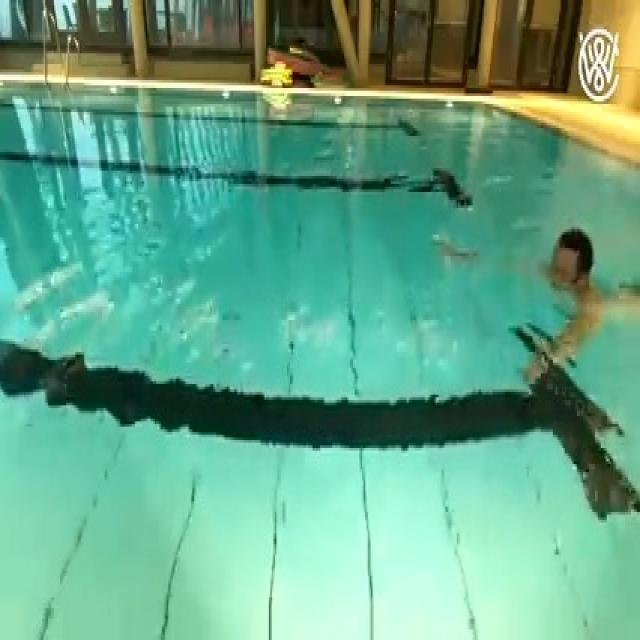Swimming: (443, 227, 640, 381)
